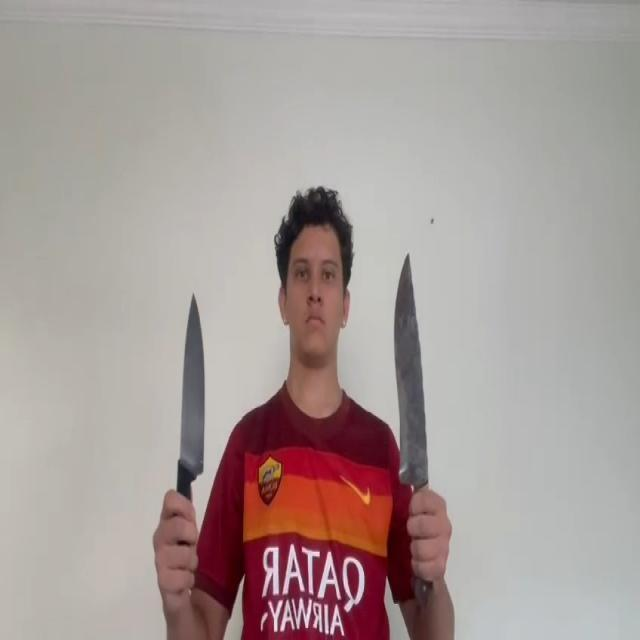knife: (391, 250, 428, 490), (180, 291, 205, 477)
